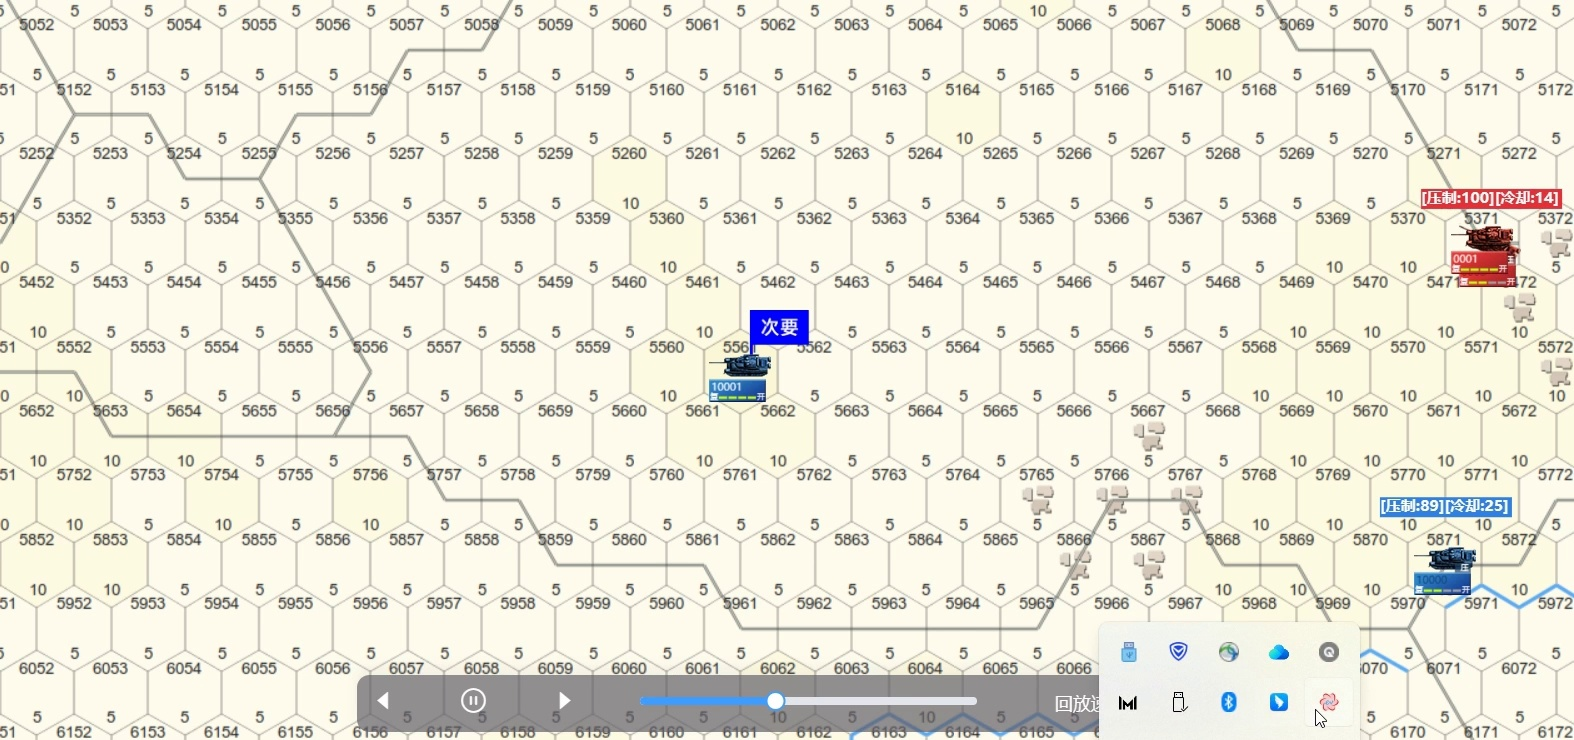blue_tank: (1405, 545, 1477, 597), (716, 349, 768, 400)
red_tank: (1461, 232, 1516, 287)
